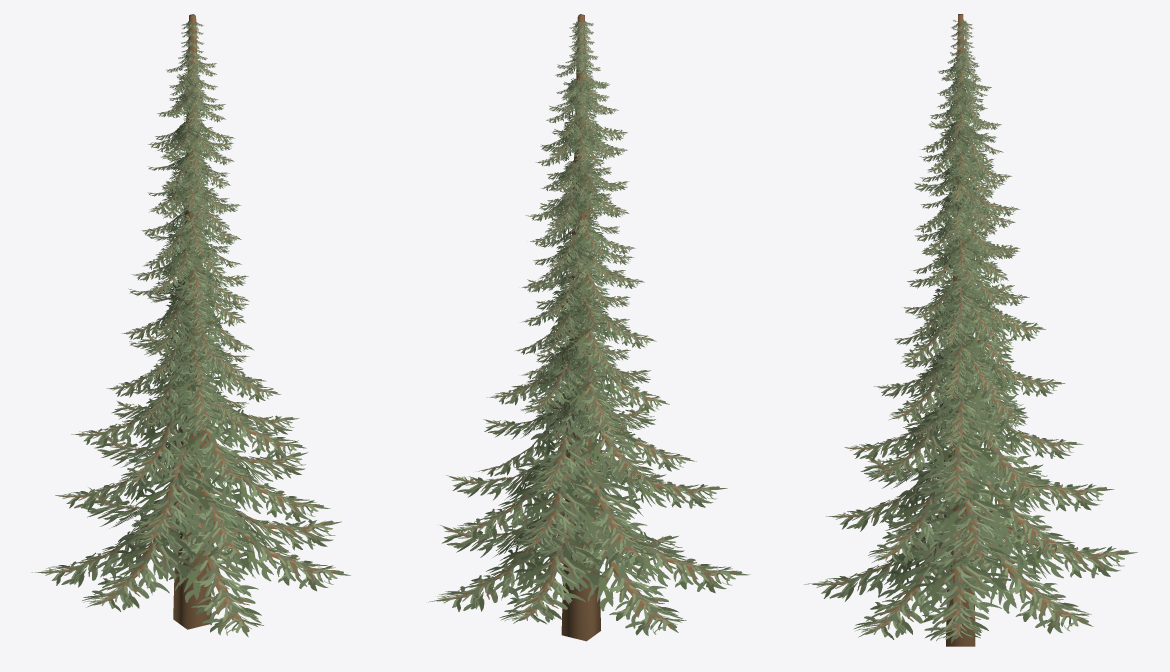
File: PineTree.fbx
3 renders of one model, left to right at view 1: azimuth 30°, elevation 25°; view 2: azimuth 150°, elevation 25°; view 3: azimuth 270°, elevation 25°, orthographic. The views are drawn at different scales.
Parts seen in each view (by area): view 1: Treebranch.006, Treebranch.002, Treebranch.014, Treebranch.010, Cube, Treebranch.005, Treebranch.020, Treebranch.013, Treebranch.017, Treebranch.001, Treebranch.016, Treebranch.003 (+29 smaller); view 2: Treebranch.008, Treebranch.003, Treebranch.007, Treebranch.011, Cube, Treebranch.006, Treebranch.021, Treebranch.018, Treebranch.004, Treebranch.012, Treebranch.014, Treebranch.025 (+27 smaller); view 3: Treebranch.001, Treebranch.009, Treebranch.004, Treebranch.005, Treebranch.013, Treebranch.019, Treebranch.008, Treebranch.012, Treebranch.015, Treebranch.016, Treebranch.007, Treebranch.002 (+26 smaller).
Part boxes in pixels (x1,y1,x2,y2): Treebranch.006: [82, 497, 212, 611]; Treebranch.002: [143, 505, 263, 637]; Treebranch.014: [127, 443, 221, 546]; Treebranch.010: [150, 447, 254, 562]; Cube: [173, 14, 211, 629]; Treebranch.005: [201, 500, 350, 591]; Treebranch.020: [159, 398, 251, 485]; Treebranch.013: [200, 443, 330, 522]; Treebranch.017: [121, 396, 211, 486]; Treebranch.001: [216, 503, 341, 552]; Treebranch.016: [192, 388, 306, 459]; Treebranch.003: [31, 501, 179, 587]; Treebranch.008: [499, 506, 611, 624]; Treebranch.003: [545, 513, 686, 635]; Treebranch.007: [510, 449, 610, 551]; Treebranch.011: [543, 453, 655, 565]; Cube: [561, 14, 600, 641]; Treebranch.006: [590, 505, 750, 593]; Treebranch.021: [555, 404, 657, 485]; Treebranch.018: [526, 402, 602, 495]; Treebranch.004: [428, 510, 579, 611]; Treebranch.012: [448, 450, 579, 540]; Treebranch.014: [591, 448, 727, 508]; Treebranch.025: [552, 358, 622, 436]; Treebranch.001: [904, 514, 1011, 643]; Treebranch.009: [914, 457, 1013, 567]; Treebranch.004: [940, 516, 1093, 633]; Treebranch.005: [853, 520, 984, 639]; Treebranch.013: [868, 461, 982, 564]; Treebranch.019: [918, 413, 996, 504]; Treebranch.008: [980, 511, 1137, 578]; Treebranch.012: [943, 458, 1075, 559]; Treebranch.015: [961, 403, 1047, 503]; Treebranch.016: [866, 405, 971, 482]; Treebranch.007: [974, 450, 1114, 511]; Treebranch.002: [804, 514, 946, 601].
Size of the model in its own units: 733 by 1347 by 713.
